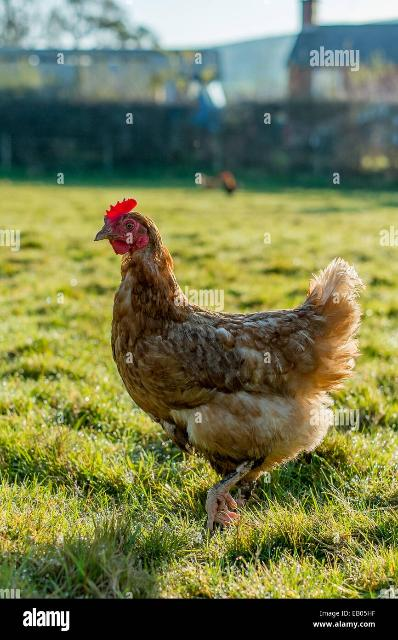Chicken: (94, 197, 363, 514)
